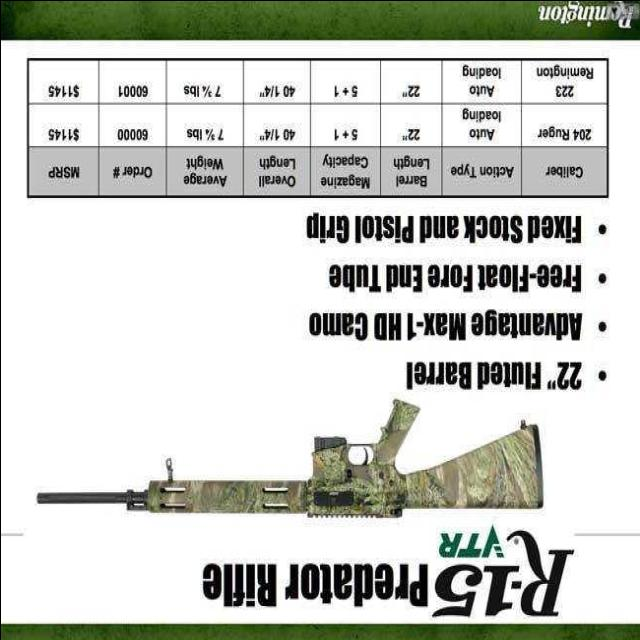heavyweapon: (23, 391, 557, 539)
